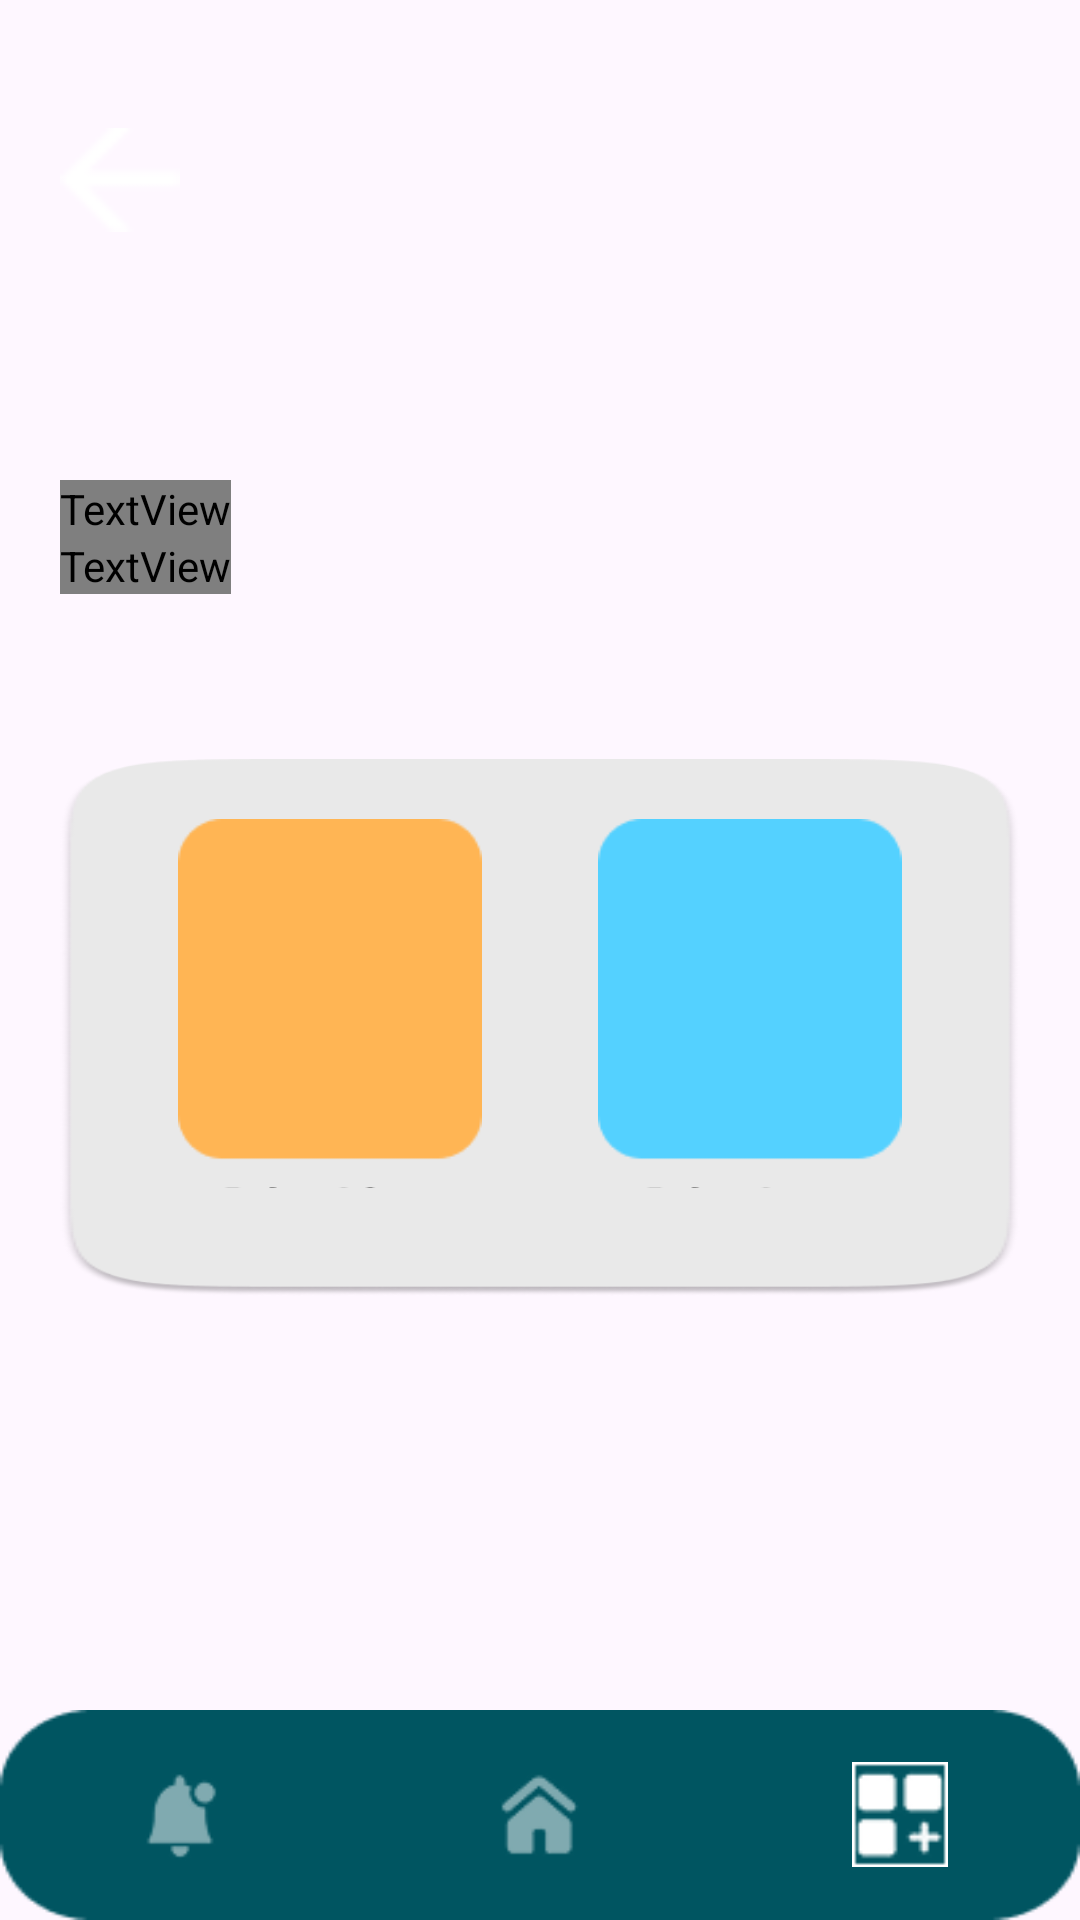

Where to tap for icons on this 1080x1920 app screen, as [x,y]:
alarmg: [181,1816]
homeg: [538,1814]
